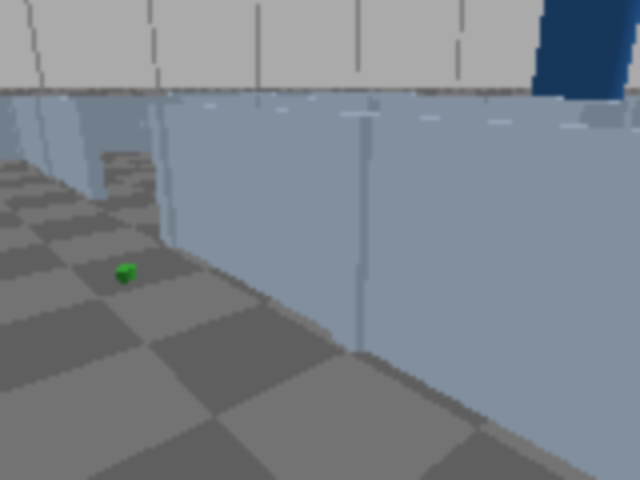puck: (117, 264, 137, 283)
